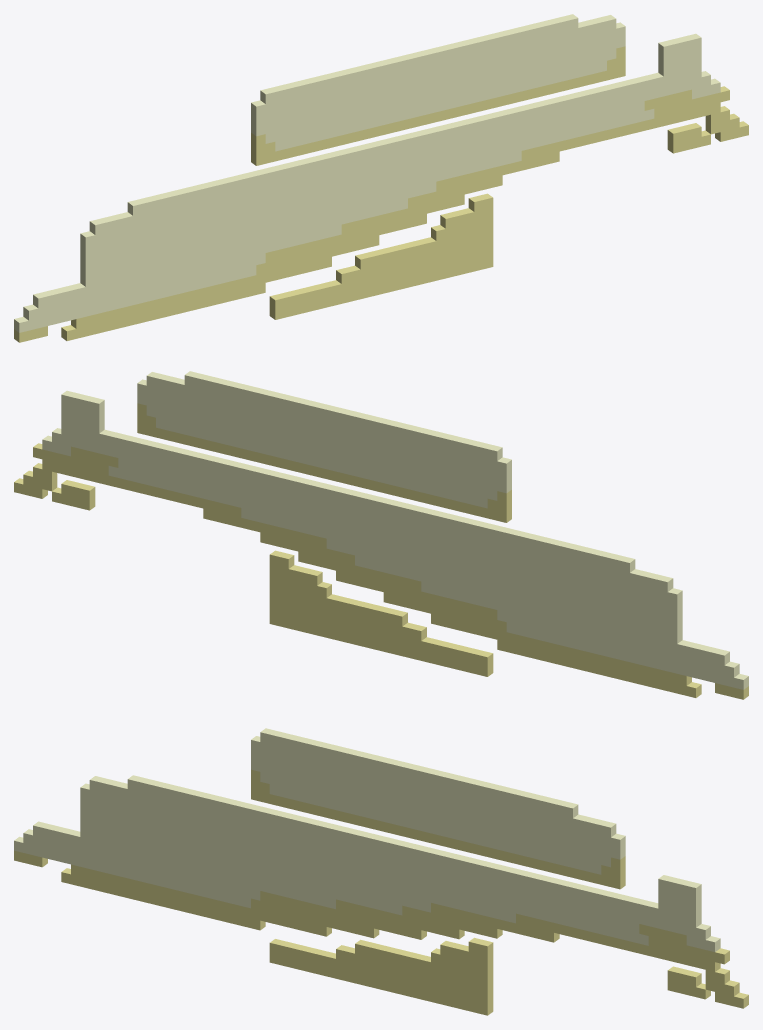
File: yun2.obj
3 renders of one model, top to bottom at view 1: azimuth 30°, elevation 25°; view 2: azimuth 150°, elevation 25°; view 3: azimuth 330°, elevation 25°, orthographic.
Bounding box in the file's own units: 77 × 23 × 1.
Materials: 1 (1 with a texture image).
